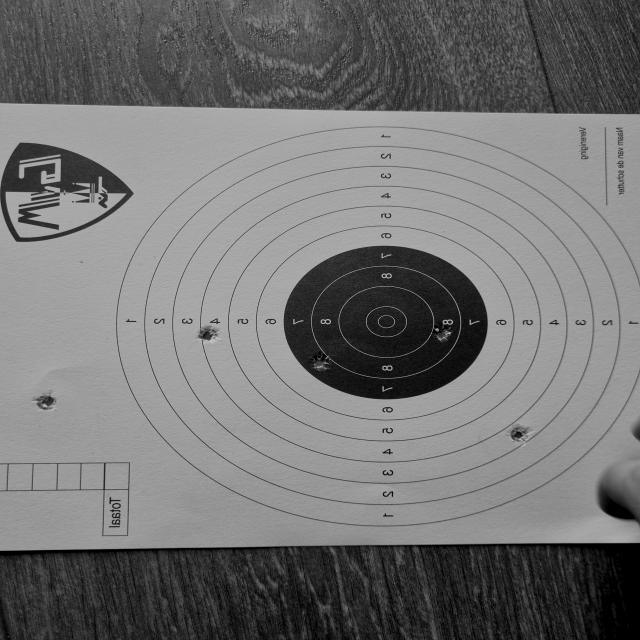0: (32, 395, 56, 411)
3: (510, 424, 530, 442)
4: (198, 328, 218, 342)
8: (310, 352, 331, 370), (432, 323, 452, 341)
Target: (111, 126, 640, 531)
black_contour: (282, 244, 488, 401)
